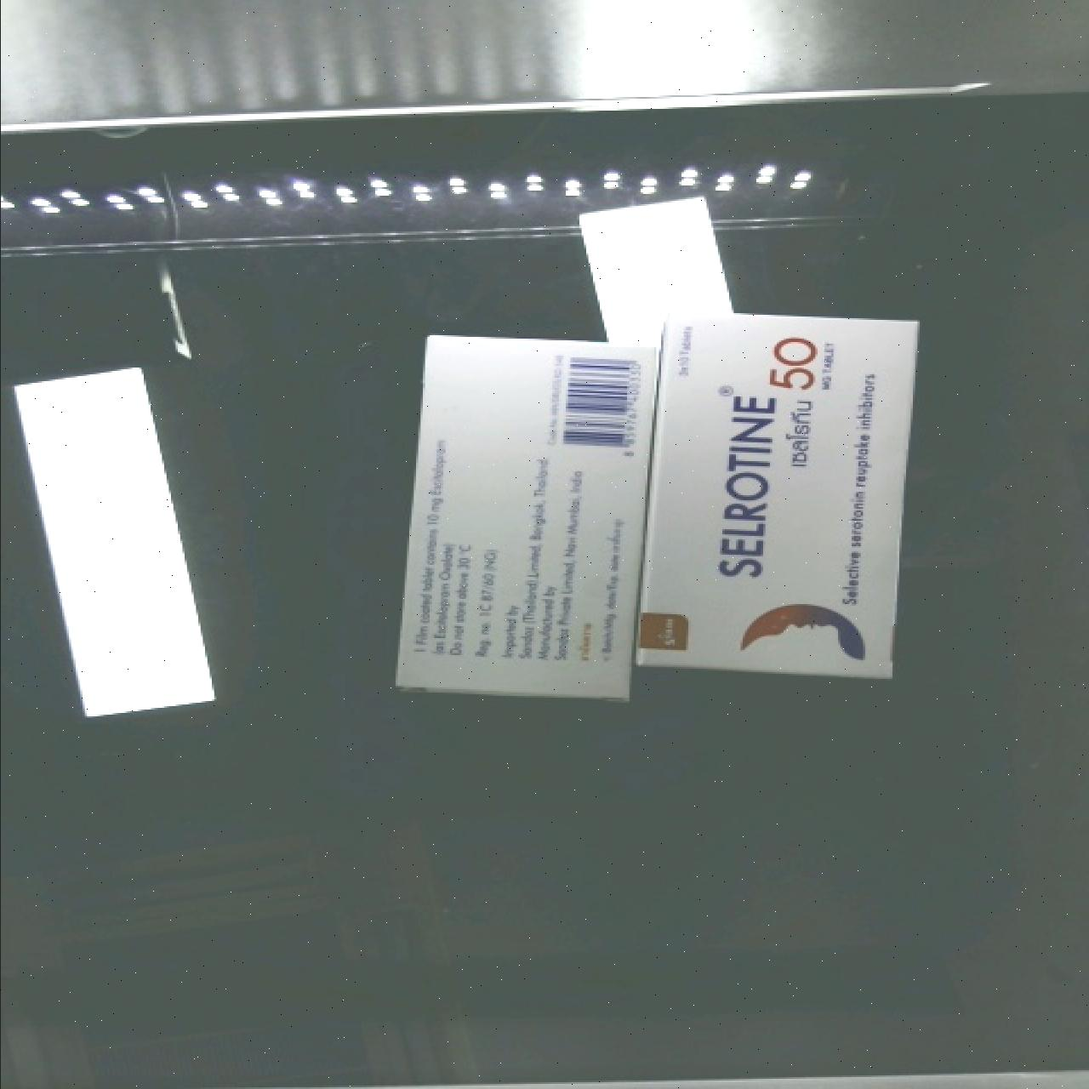medicine_label_obb: (688, 311, 860, 610)
